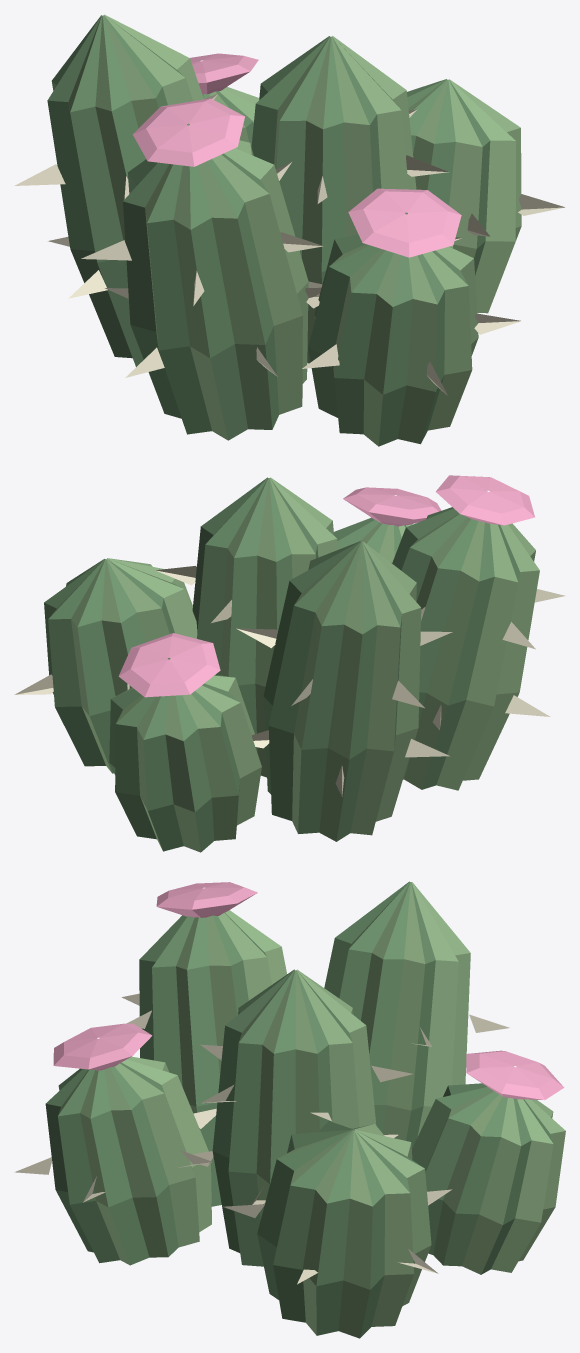
The model's file is cactus-hedgehog-a.glb.
The picture shows the model from 3 angles, top to bottom: view 1: azimuth 30°, elevation 25°; view 2: azimuth 150°, elevation 25°; view 3: azimuth 270°, elevation 25°; orthographic projection. The views are drawn at different scales.
Visible parts, largest first — view 1: cactus-hedgehog-a; view 2: cactus-hedgehog-a; view 3: cactus-hedgehog-a.
Boxes of the visible parts, x1,y1,x2,y2 form: cactus-hedgehog-a: [14, 14, 565, 446]; cactus-hedgehog-a: [14, 475, 565, 852]; cactus-hedgehog-a: [14, 881, 565, 1338].
Size of the model in its own units: 0.3516 by 0.2226 by 0.3611.
